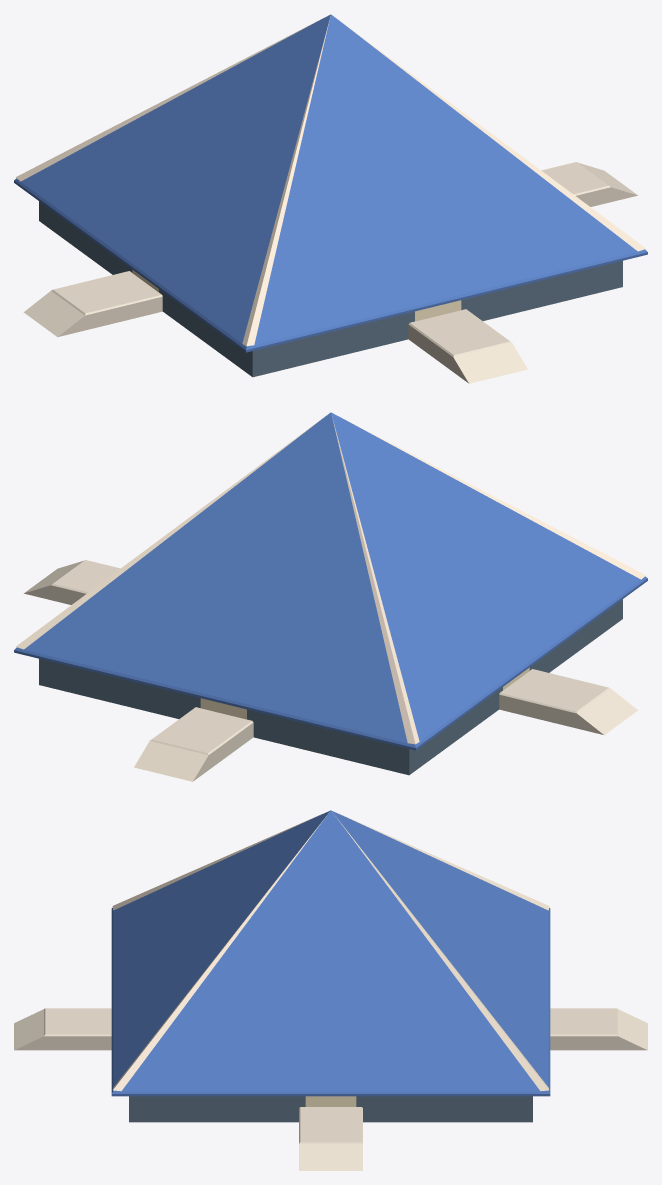
Rendered from la-walter-pyramid.glb.
The picture shows the model from 3 angles, top to bottom: view 1: azimuth 30°, elevation 25°; view 2: azimuth 150°, elevation 25°; view 3: azimuth 270°, elevation 25°; orthographic projection. The views are drawn at different scales.
Parts seen in each view (by area): view 1: Walter Pyramid; view 2: Walter Pyramid; view 3: Walter Pyramid.
Part boxes in pixels (<box>): Walter Pyramid: <box>14,14,647,383</box>; Walter Pyramid: <box>14,412,647,781</box>; Walter Pyramid: <box>14,810,647,1170</box>.
Size of the model in its own units: 138 by 54.45 by 138.
